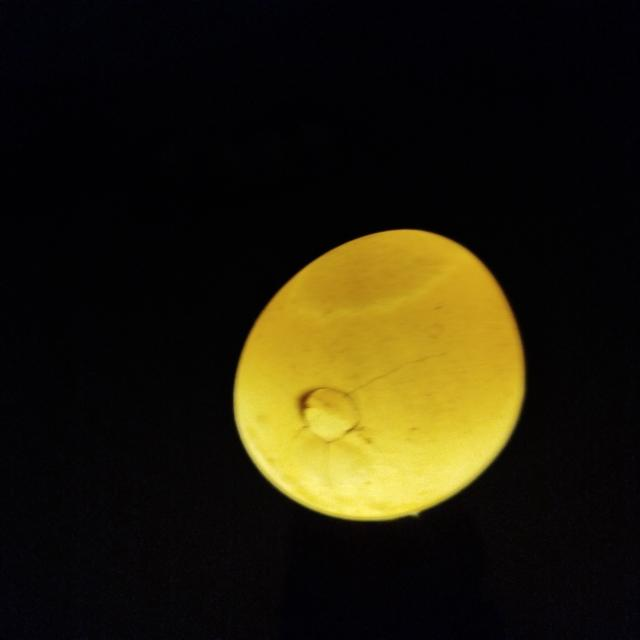Camara de Ar: (275, 231, 466, 319)
Rachadura: (291, 354, 444, 443)
